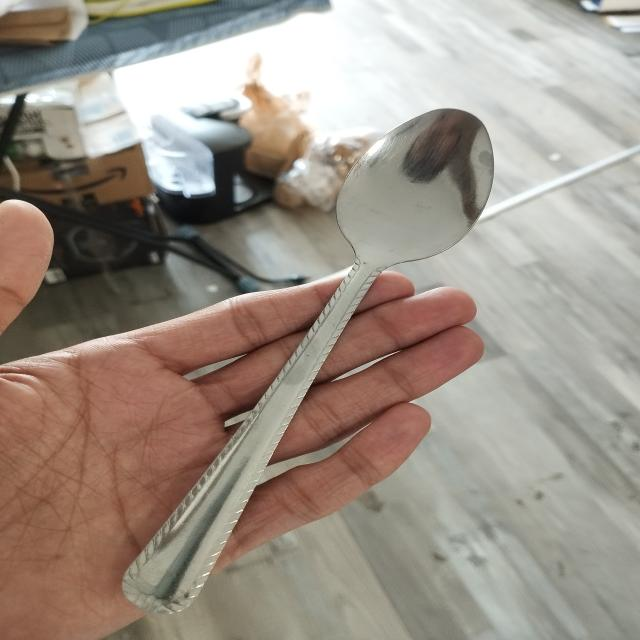Spoon: (116, 98, 546, 619)
